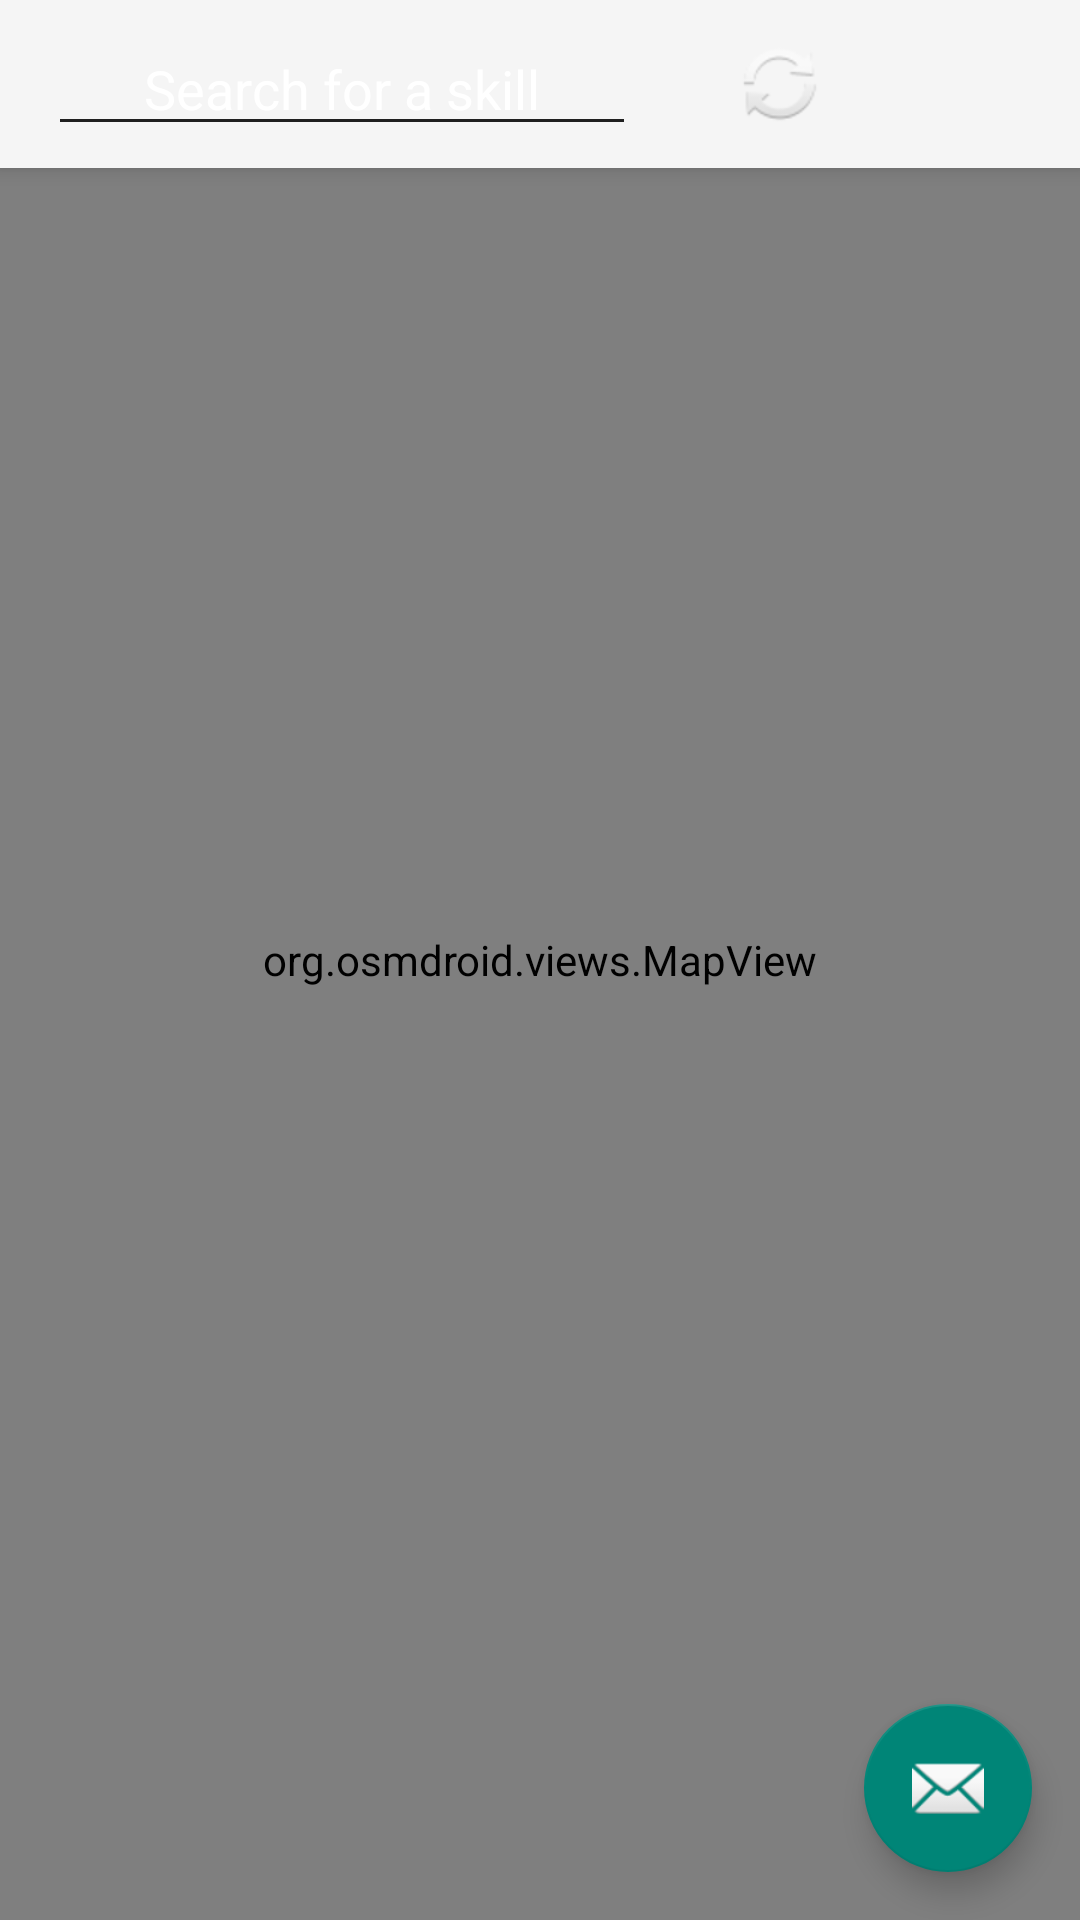

Icon bounding boxes for this 1080px×1920px phone screenshot, format (x1, y1, x2, y2):
email: (864, 1704, 1032, 1872)
popup sync: (744, 57, 813, 119)
